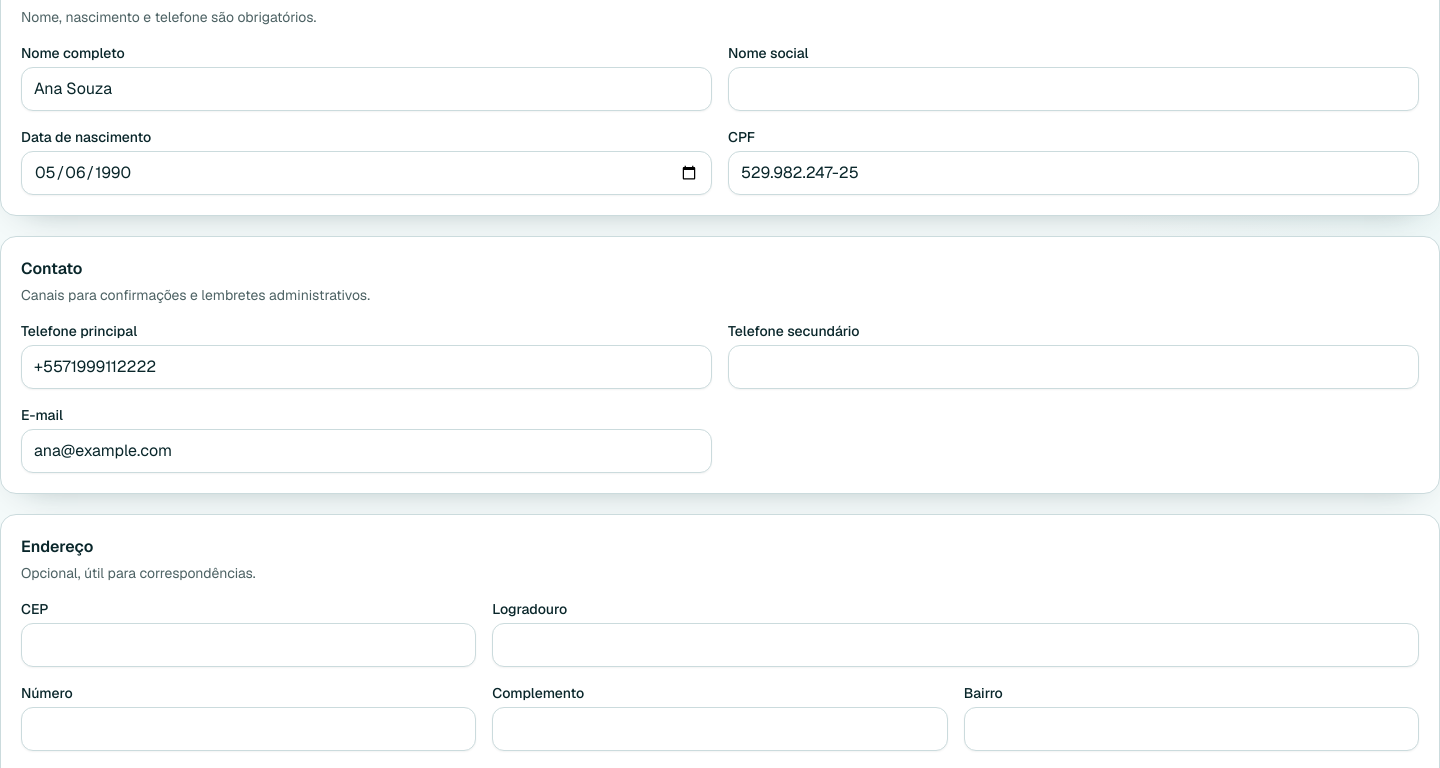
Test: PatientForm › edits a patient with prefilled values and confirms the success
Check: the field labelled "Nome completo" holds "Ana Souza", box [21, 67, 712, 111]
Check: the field labelled "CPF" holds "529.982.247-25", box [728, 151, 1419, 195]
Step 1. Type "Ana S." into the field labelled "Nome social" → x=1074, y=89, box [728, 67, 1419, 111]
(page scrolled)
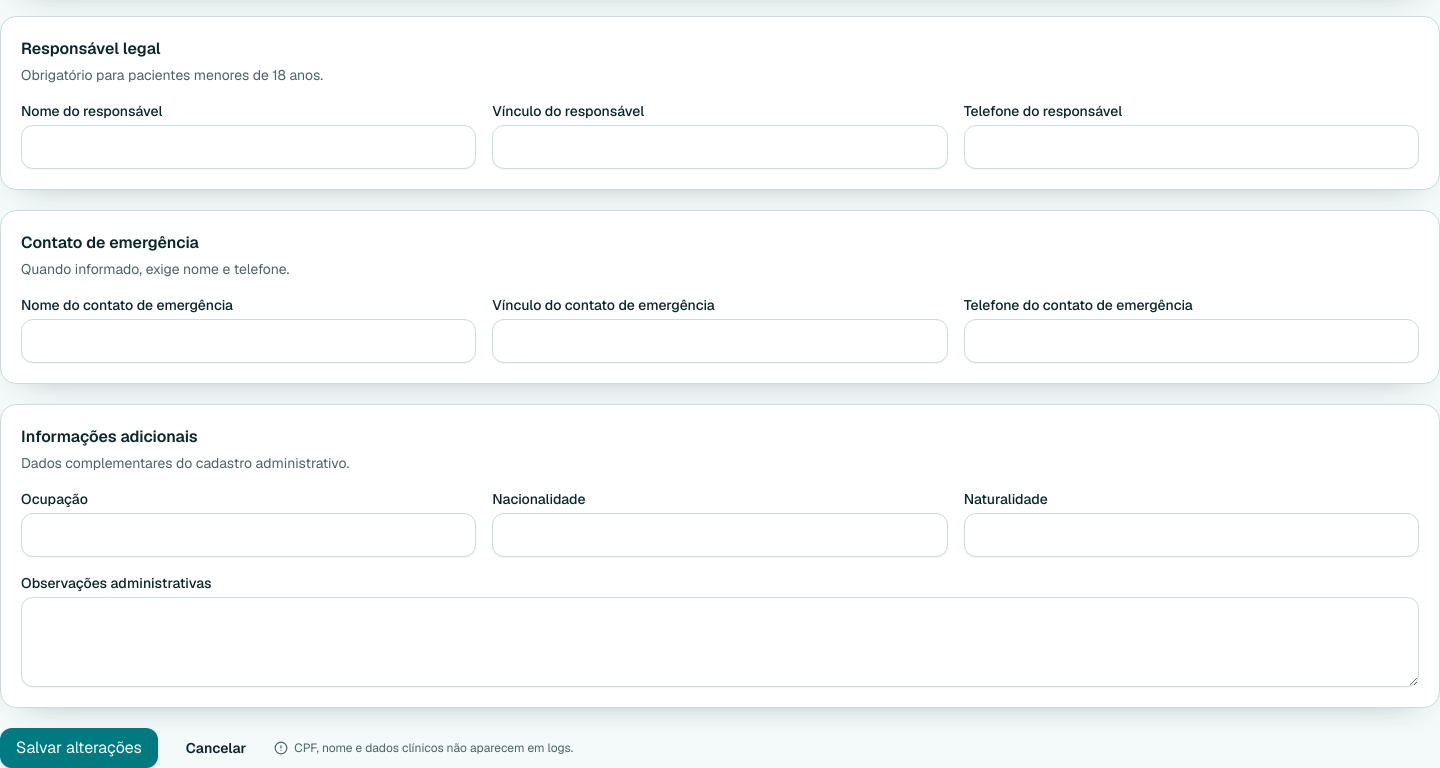
Step 2. Click the button "Salvar alterações" → x=79, y=748, box [0, 728, 158, 767]
(page scrolled)
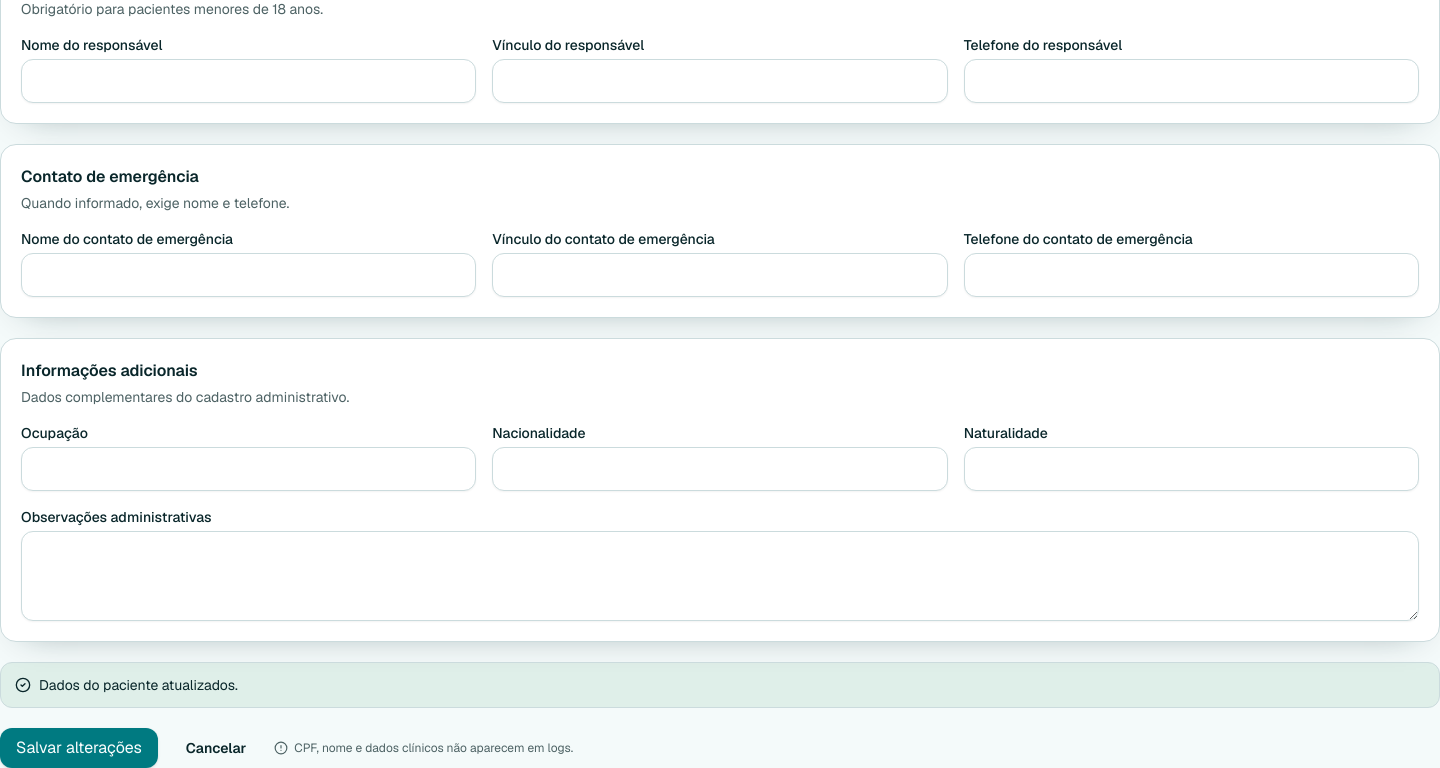
Check: the message reads "Dados do paciente atualizados.", box [39, 676, 238, 694]
